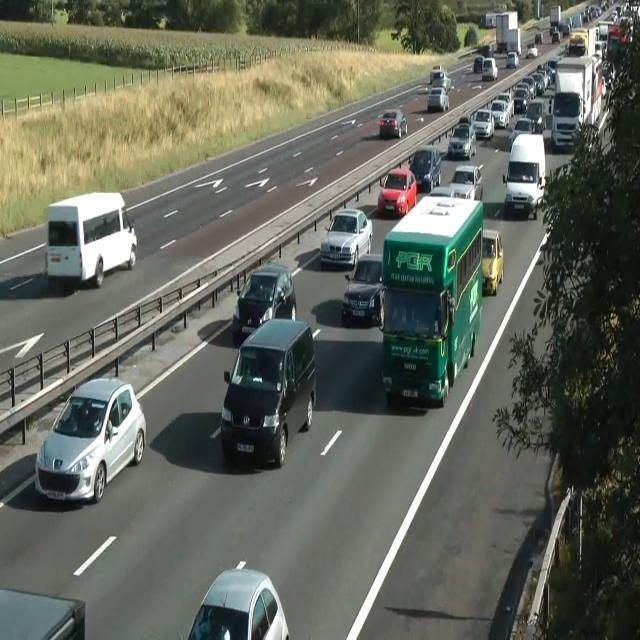bus: (34, 376, 146, 504), (186, 560, 290, 639), (0, 587, 85, 639), (340, 253, 384, 327), (320, 207, 372, 269), (377, 167, 417, 218), (482, 229, 504, 295), (379, 108, 407, 140), (508, 118, 534, 148), (470, 108, 494, 140), (429, 65, 451, 92), (427, 86, 449, 112), (565, 32, 587, 57), (512, 85, 530, 113), (496, 91, 514, 118), (602, 60, 616, 90), (428, 186, 454, 197), (505, 50, 519, 68), (473, 55, 484, 73), (525, 42, 537, 58), (534, 32, 544, 44), (552, 28, 560, 42)
jeep: (220, 316, 316, 468), (45, 190, 137, 289), (232, 262, 296, 341), (502, 132, 546, 218), (550, 90, 581, 151), (408, 144, 442, 191), (448, 163, 483, 200), (447, 122, 475, 159), (482, 57, 498, 81)
minibus: (379, 194, 483, 407), (550, 54, 604, 152), (496, 11, 520, 55), (478, 12, 497, 28), (550, 4, 560, 34)
